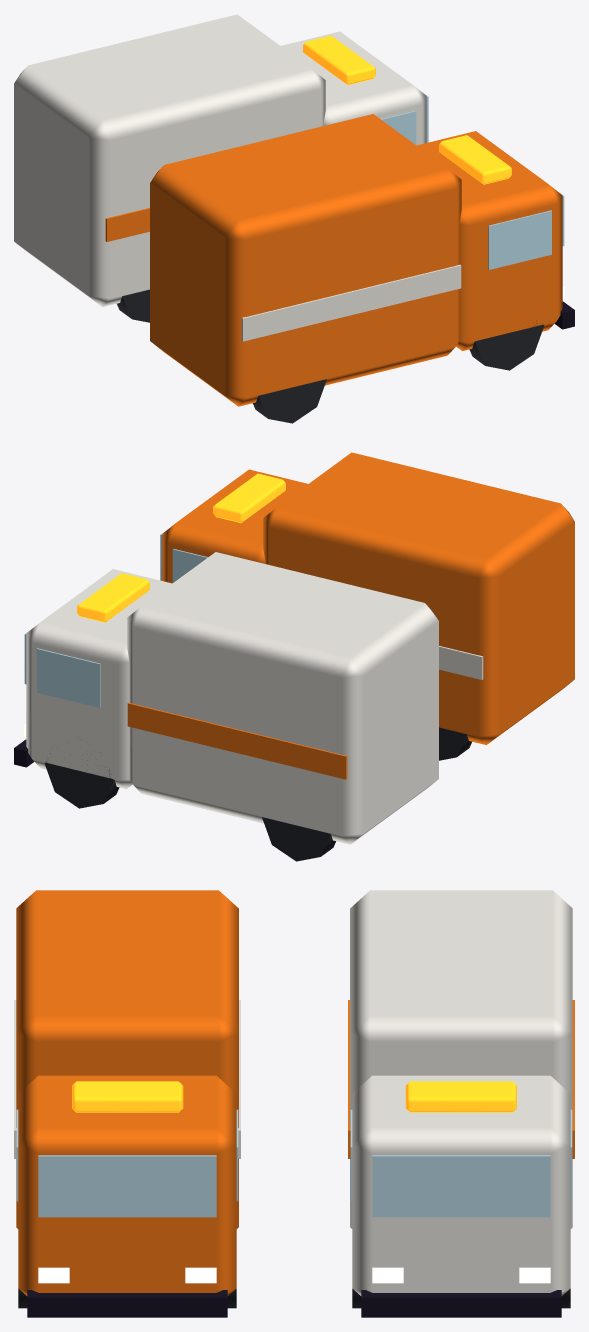
File: station_transport_ausstattung_3_3.glb
The picture shows the model from 3 angles, top to bottom: view 1: azimuth 30°, elevation 25°; view 2: azimuth 150°, elevation 25°; view 3: azimuth 270°, elevation 25°; orthographic projection. The views are drawn at different scales.
Visible parts, largest first — view 1: station_transport_ausstattung_3_3; view 2: station_transport_ausstattung_3_3; view 3: station_transport_ausstattung_3_3.
Part boxes in pixels (left/top/right/bottom): station_transport_ausstattung_3_3: left=14, top=14, right=574, bottom=423; station_transport_ausstattung_3_3: left=14, top=452, right=574, bottom=861; station_transport_ausstattung_3_3: left=14, top=890, right=574, bottom=1317.
Bounding box in the file's own units: 1.11 × 0.64 × 1.26.
